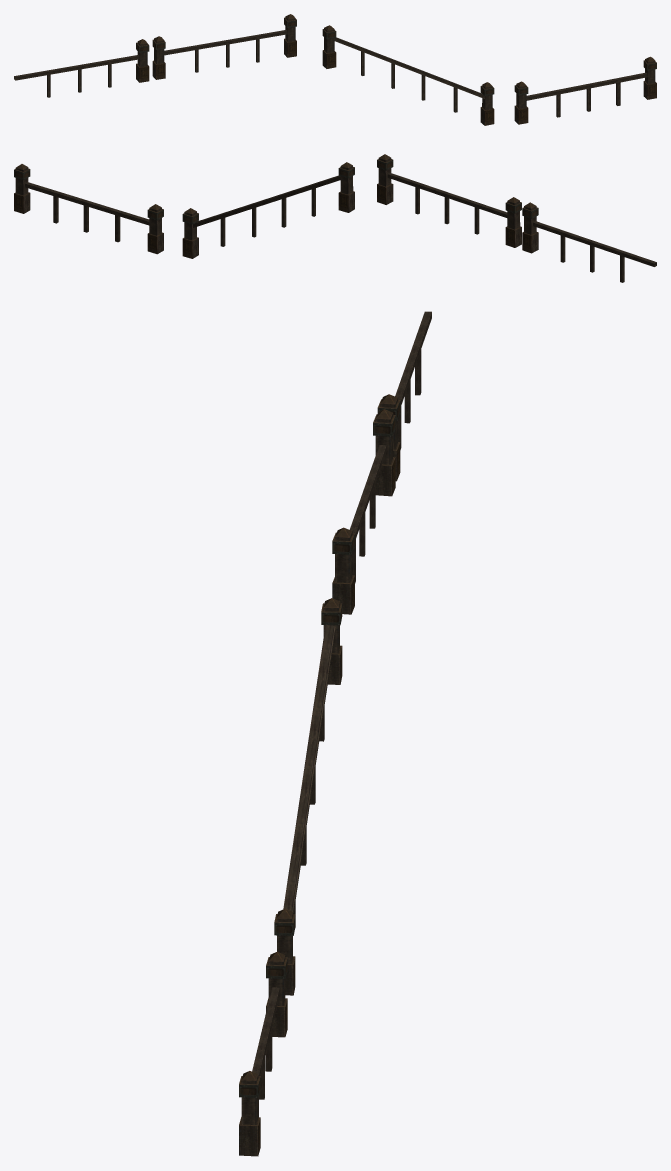
File: rail_crack02.fbx
3 renders of one model, top to bottom at view 1: azimuth 30°, elevation 25°; view 2: azimuth 150°, elevation 25°; view 3: azimuth 270°, elevation 25°, orthographic. The views are drawn at different scales.
Parts seen in each view (by area): view 1: ship_rail_02; view 2: ship_rail_02; view 3: ship_rail_02.
Part boxes in pixels (x1,y1,x2,y2): ship_rail_02: [14, 14, 656, 125]; ship_rail_02: [14, 154, 656, 282]; ship_rail_02: [239, 311, 431, 1156].
Bounding box in the file's own units: 43.03 × 10.33 × 6.04.
